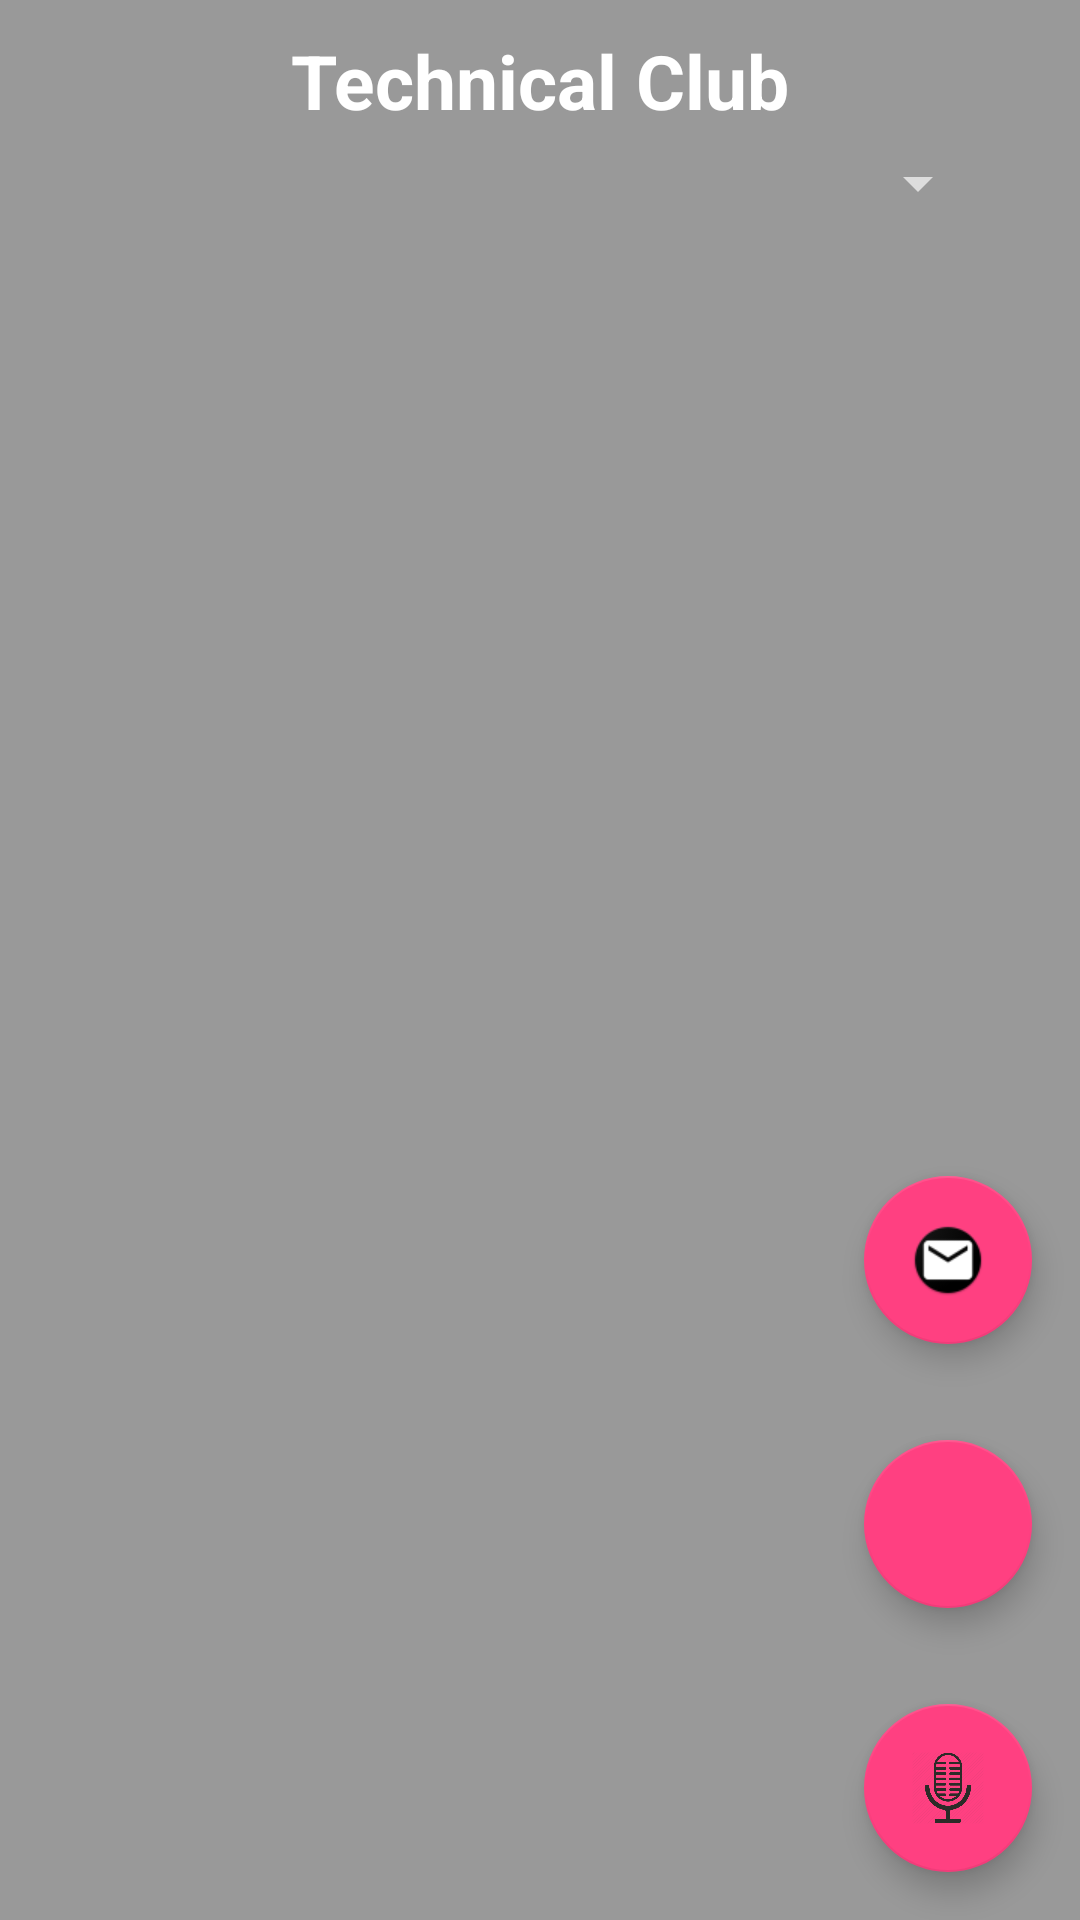

Icons on this 1080 x 1920 Android screen, each with the point to tap as (x=x, y=y):
email: (x=948, y=1260)
